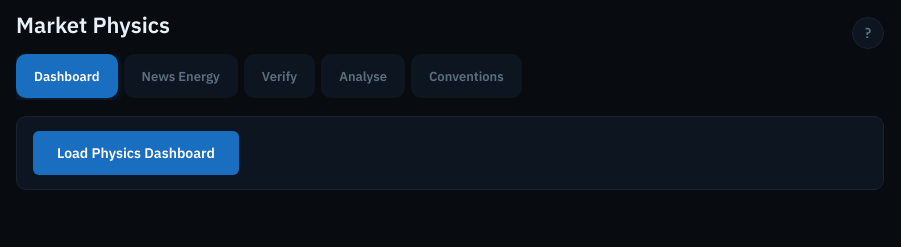
it: Physics dashboard tab async data › shows an error state when the api client resolves an error marker instead of throwing
Step 1. Click the button "Load Physics Dashboard" → [136, 153], box [33,131,239,175]
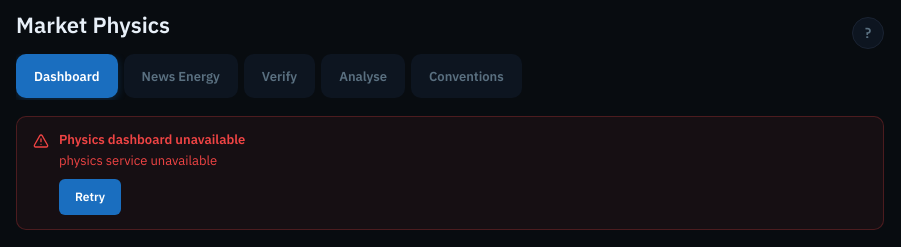
Now the text "physics service unavailable" is shown, box [59,152,217,169]
Now the button "Retry" is shown, box [59,179,121,215]
